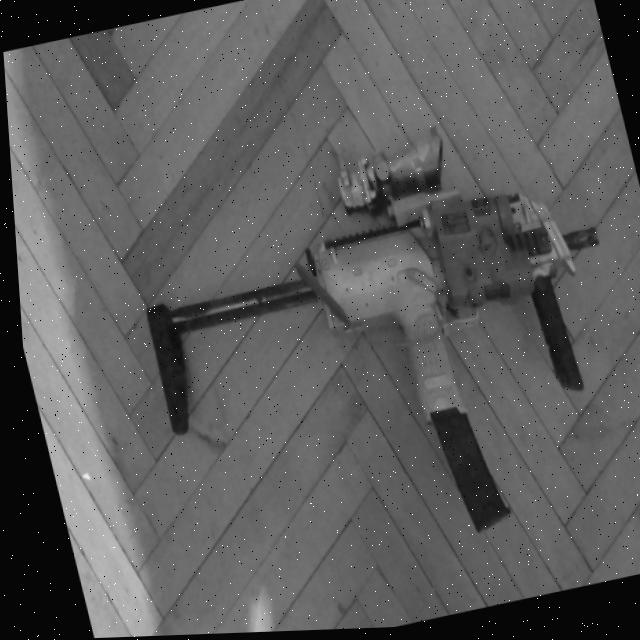firearm: (109, 107, 640, 596)
